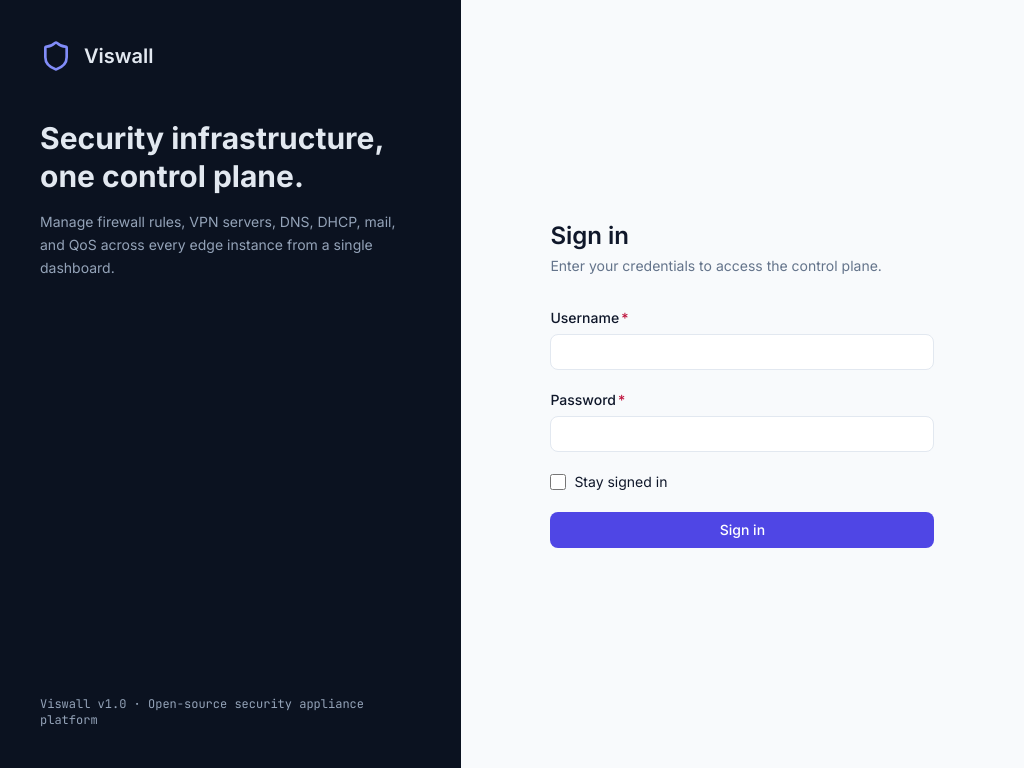
Test: MSW + RTL smoke › shows the API error for rejected credentials
Type "admin" into the field labelled "Username*".
click(742, 352); type("admin")  # box [550,334,934,370]
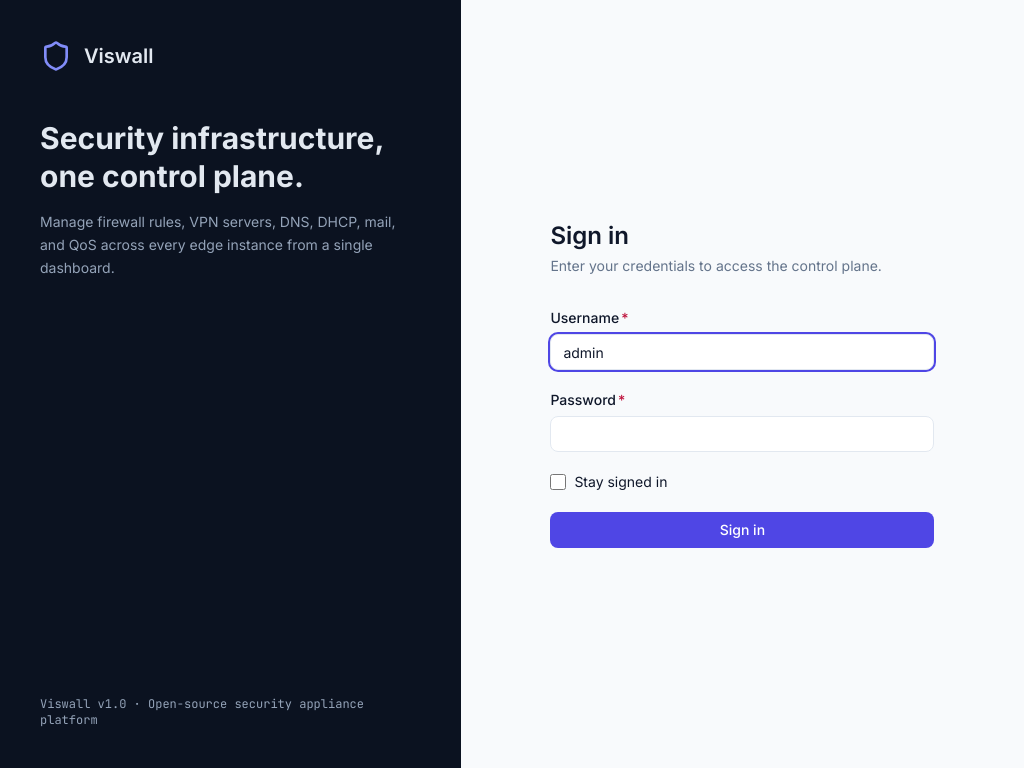
Type "wrong-password" into the password field labelled "Password*".
click(742, 434); type("wrong-password")  # box [550,416,934,452]
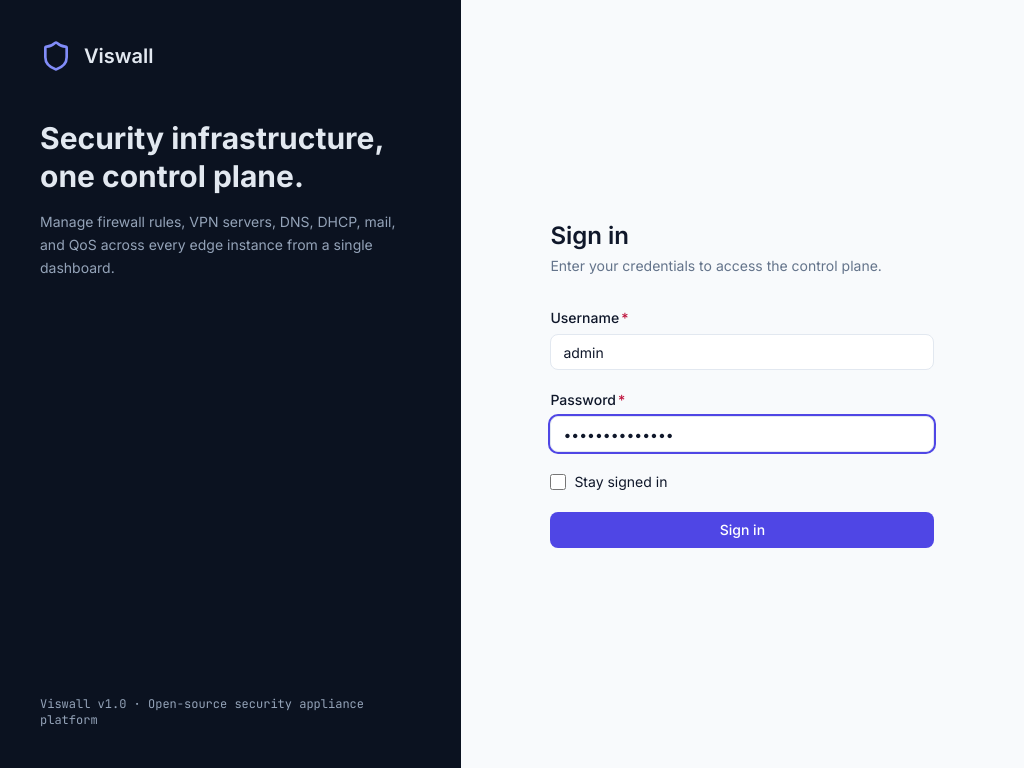
Click the button "Sign in".
click(742, 530)  # box [550,512,934,548]
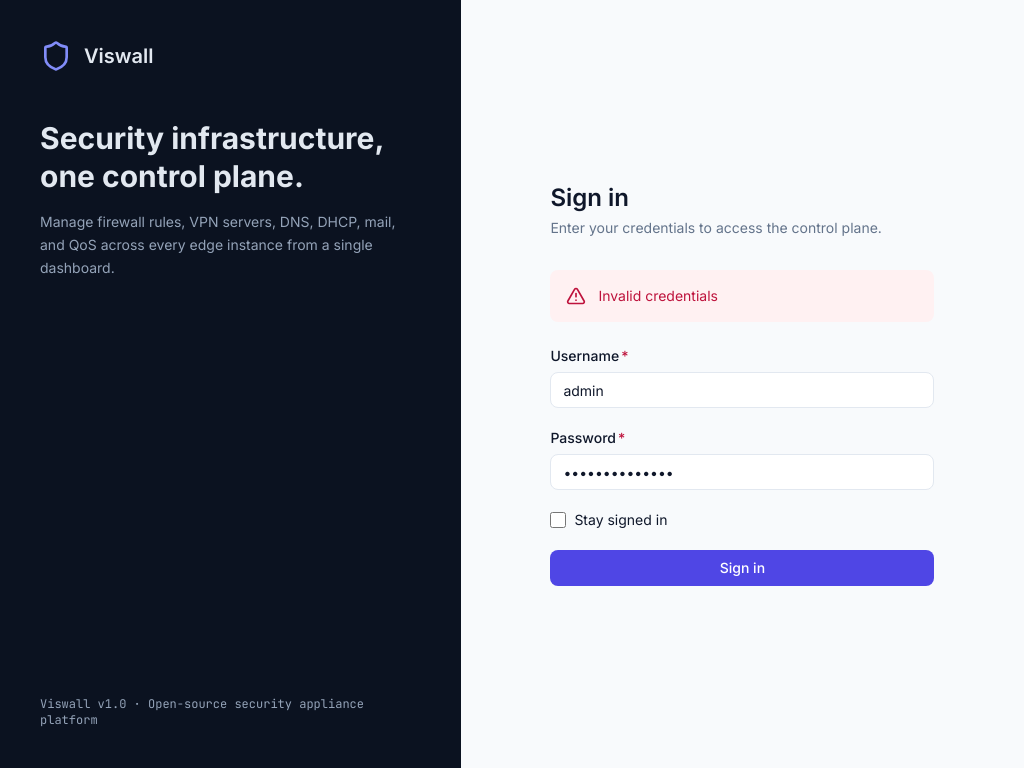
Expected: the text "Invalid credentials" is shown, [598,286,718,306]
